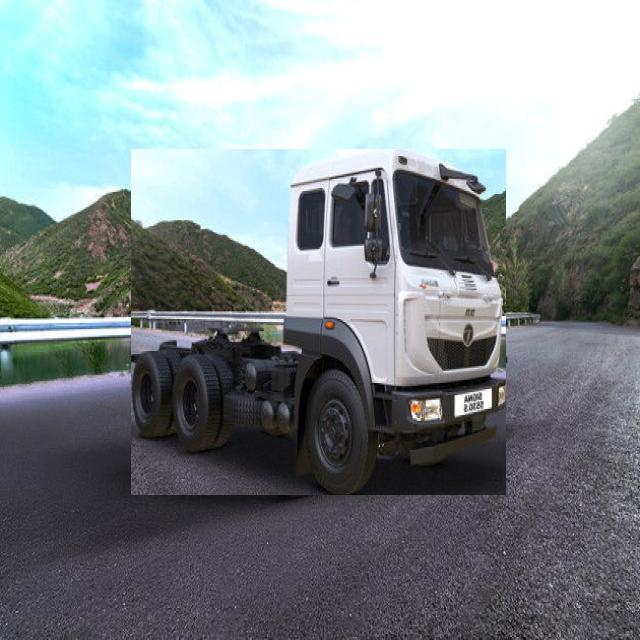truck: (131, 150, 506, 495)
